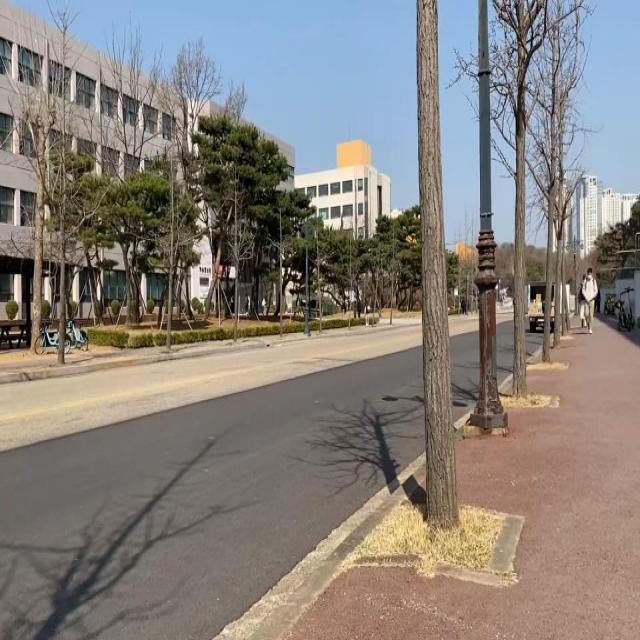sidewalk: (251, 308, 640, 640), (62, 318, 423, 364), (0, 354, 60, 375)
